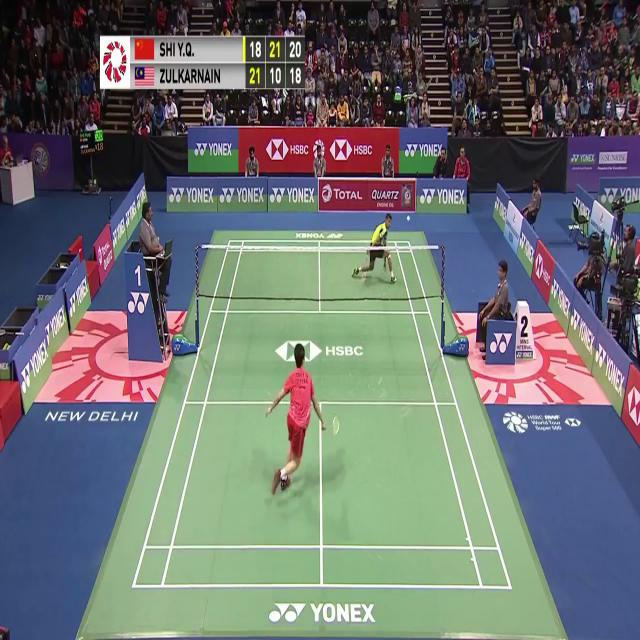Shuttlecock: (405, 211, 412, 223)
